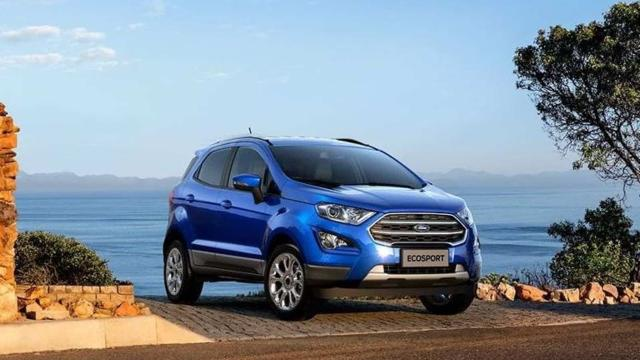ford: (162, 128, 482, 320)
